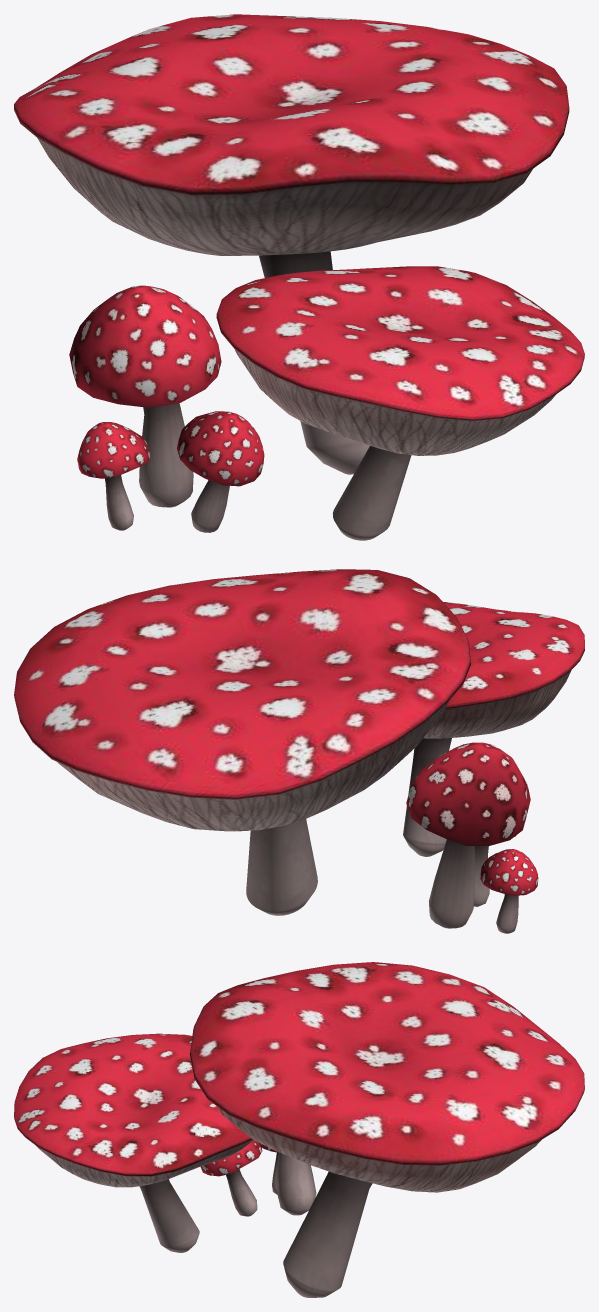
Rendered from Red_shrooms_02.fbx.
The picture shows the model from 3 angles, top to bottom: view 1: azimuth 30°, elevation 25°; view 2: azimuth 150°, elevation 25°; view 3: azimuth 270°, elevation 25°; orthographic projection. The views are drawn at different scales.
Parts seen in each view (by area): view 1: big_red_shroom2, big_red_shroom1, tiny_red_shroom1, tiny_red_shroom2, tiny_red_shroom3; view 2: big_red_shroom2, big_red_shroom1, tiny_red_shroom1, tiny_red_shroom3, tiny_red_shroom2; view 3: big_red_shroom2, big_red_shroom1, tiny_red_shroom1, tiny_red_shroom2.
Part boxes in pixels (x1,y1,x2,y2): big_red_shroom2: (14,14,569,474); big_red_shroom1: (216,266,584,540); tiny_red_shroom1: (69,285,221,507); tiny_red_shroom2: (177,411,264,532); tiny_red_shroom3: (77,422,150,530); big_red_shroom2: (14,569,470,915); big_red_shroom1: (403,602,584,856); tiny_red_shroom1: (406,742,530,928); tiny_red_shroom3: (480,849,538,933); tiny_red_shroom2: (474,836,515,906); big_red_shroom2: (189,962,584,1297); big_red_shroom1: (14,1033,252,1252); tiny_red_shroom1: (277,1152,316,1215); tiny_red_shroom2: (200,1140,262,1216).
Bounding box in the file's own units: 68.78 × 46.95 × 90.16.
